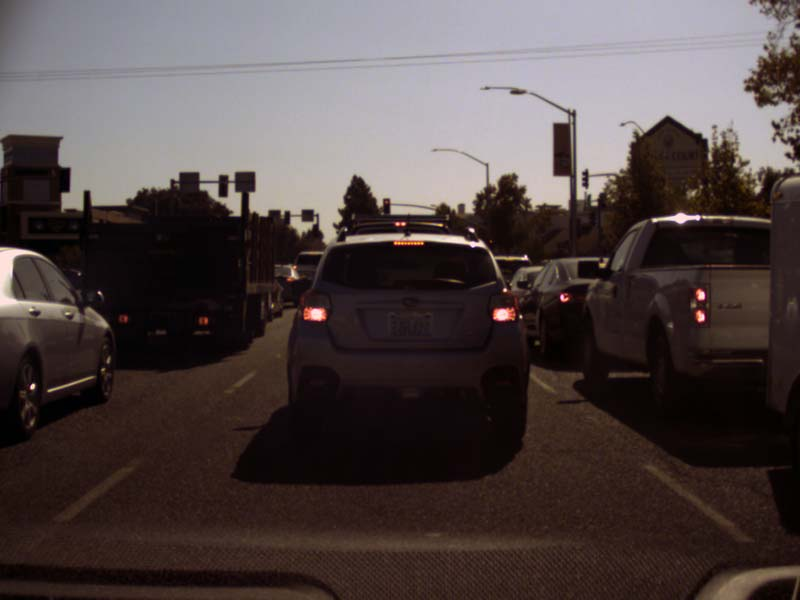Red: (383, 198, 389, 213)
Yellow: (488, 238, 492, 248)
